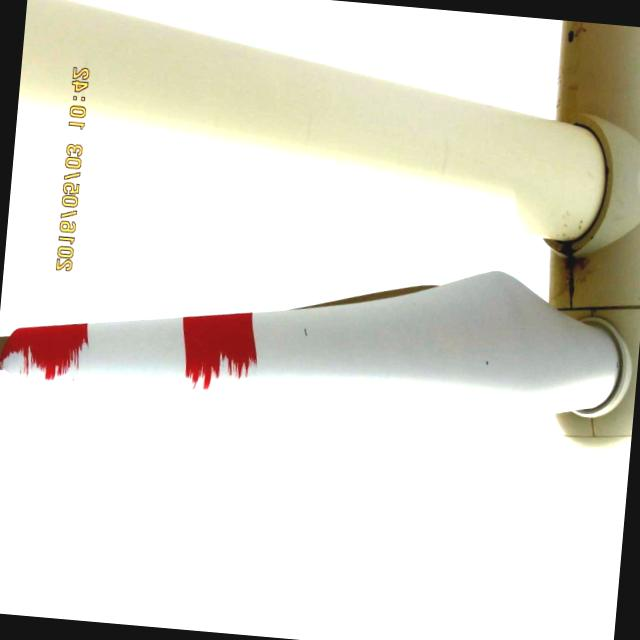surface_peeling: (174, 304, 262, 390), (4, 314, 90, 383)
